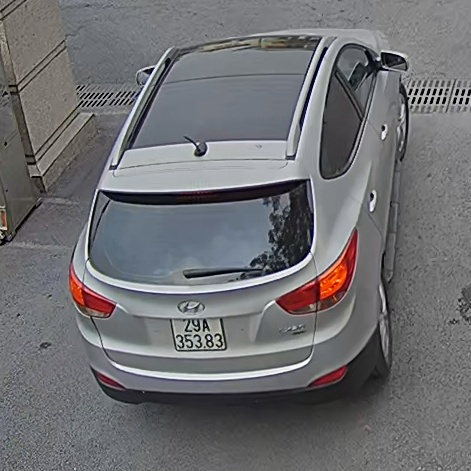vehicle plate: (172, 312, 227, 359)
